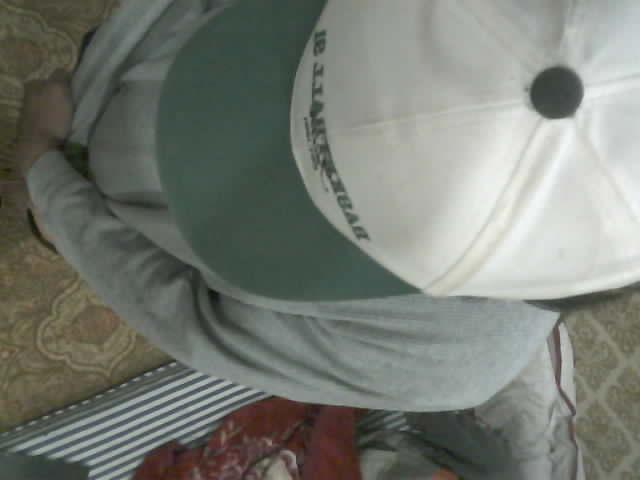cap: (155, 0, 639, 304)
